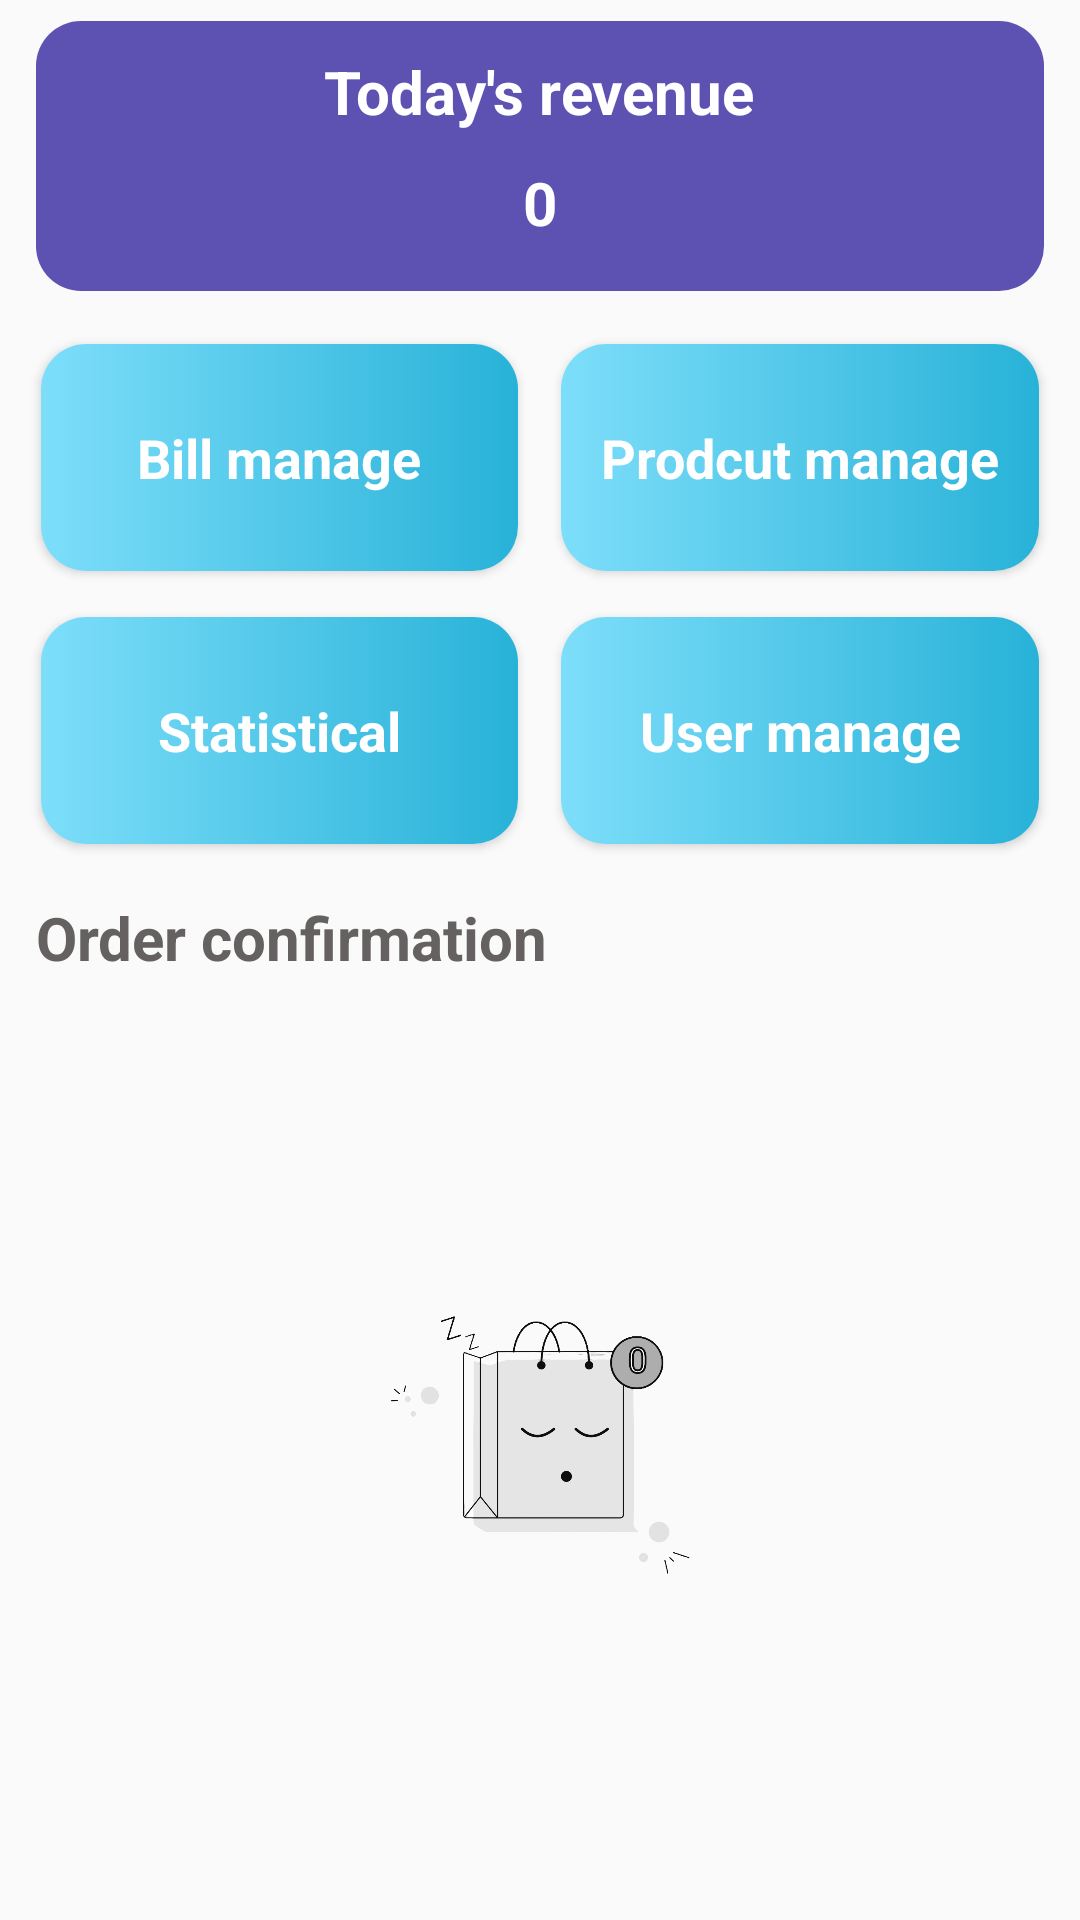

Icon bounding boxes for this 1080px×1920px phone screenshot, format (x1, y1, x2, y2):
order empty: (391, 1316, 690, 1574)
